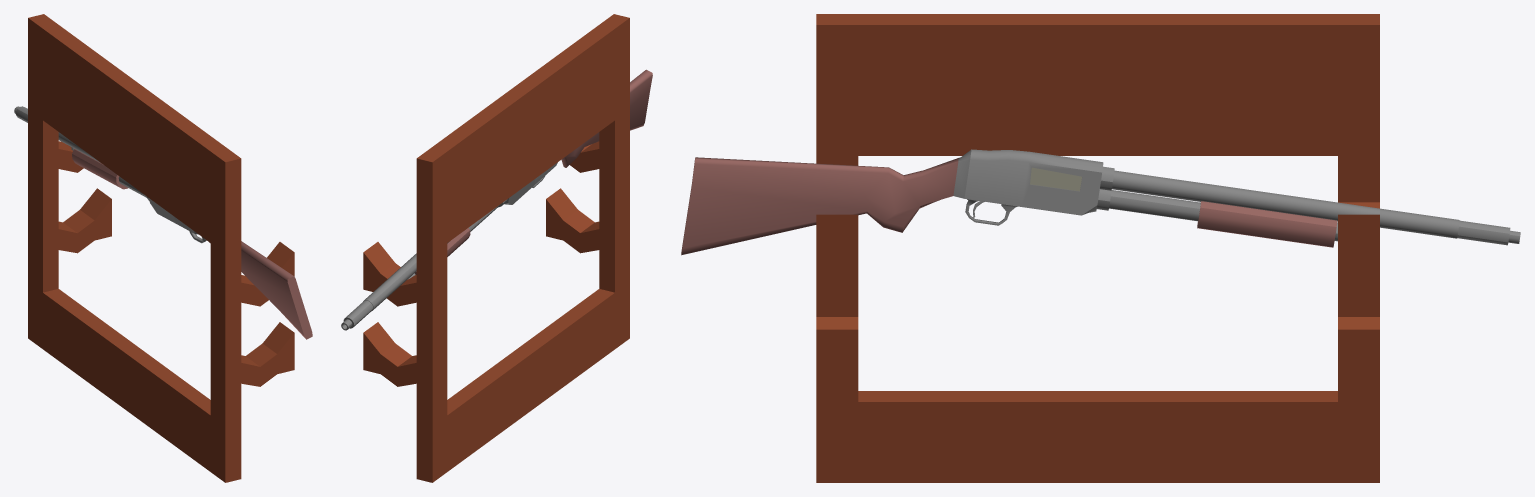
File: shotgun 1.fbx
The picture shows the model from 3 angles, left to right: view 1: azimuth 30°, elevation 25°; view 2: azimuth 150°, elevation 25°; view 3: azimuth 270°, elevation 25°; orthographic projection. The views are drawn at different scales.
Parts seen in each view (by area): view 1: weapon rack, shotgun, Cylinder.001, Cylinder; view 2: weapon rack, shotgun, Cylinder, Cylinder.001; view 3: weapon rack, shotgun, Cylinder, Cylinder.001.
Boxes of the visible parts, x1,y1,x2,y2 form: weapon rack: (28,14,294,482); shotgun: (148,198,312,339); Cylinder.001: (71,147,149,200); Cylinder: (14,106,100,162); weapon rack: (363,14,629,482); shotgun: (504,69,652,204); Cylinder: (341,241,449,330); Cylinder.001: (407,199,507,279); weapon rack: (816,14,1379,482); shotgun: (681,149,1103,255); Cylinder: (1100,166,1520,245); Cylinder.001: (1097,189,1337,247).
Size of the model in its own units: 67.05 by 297 by 494.
